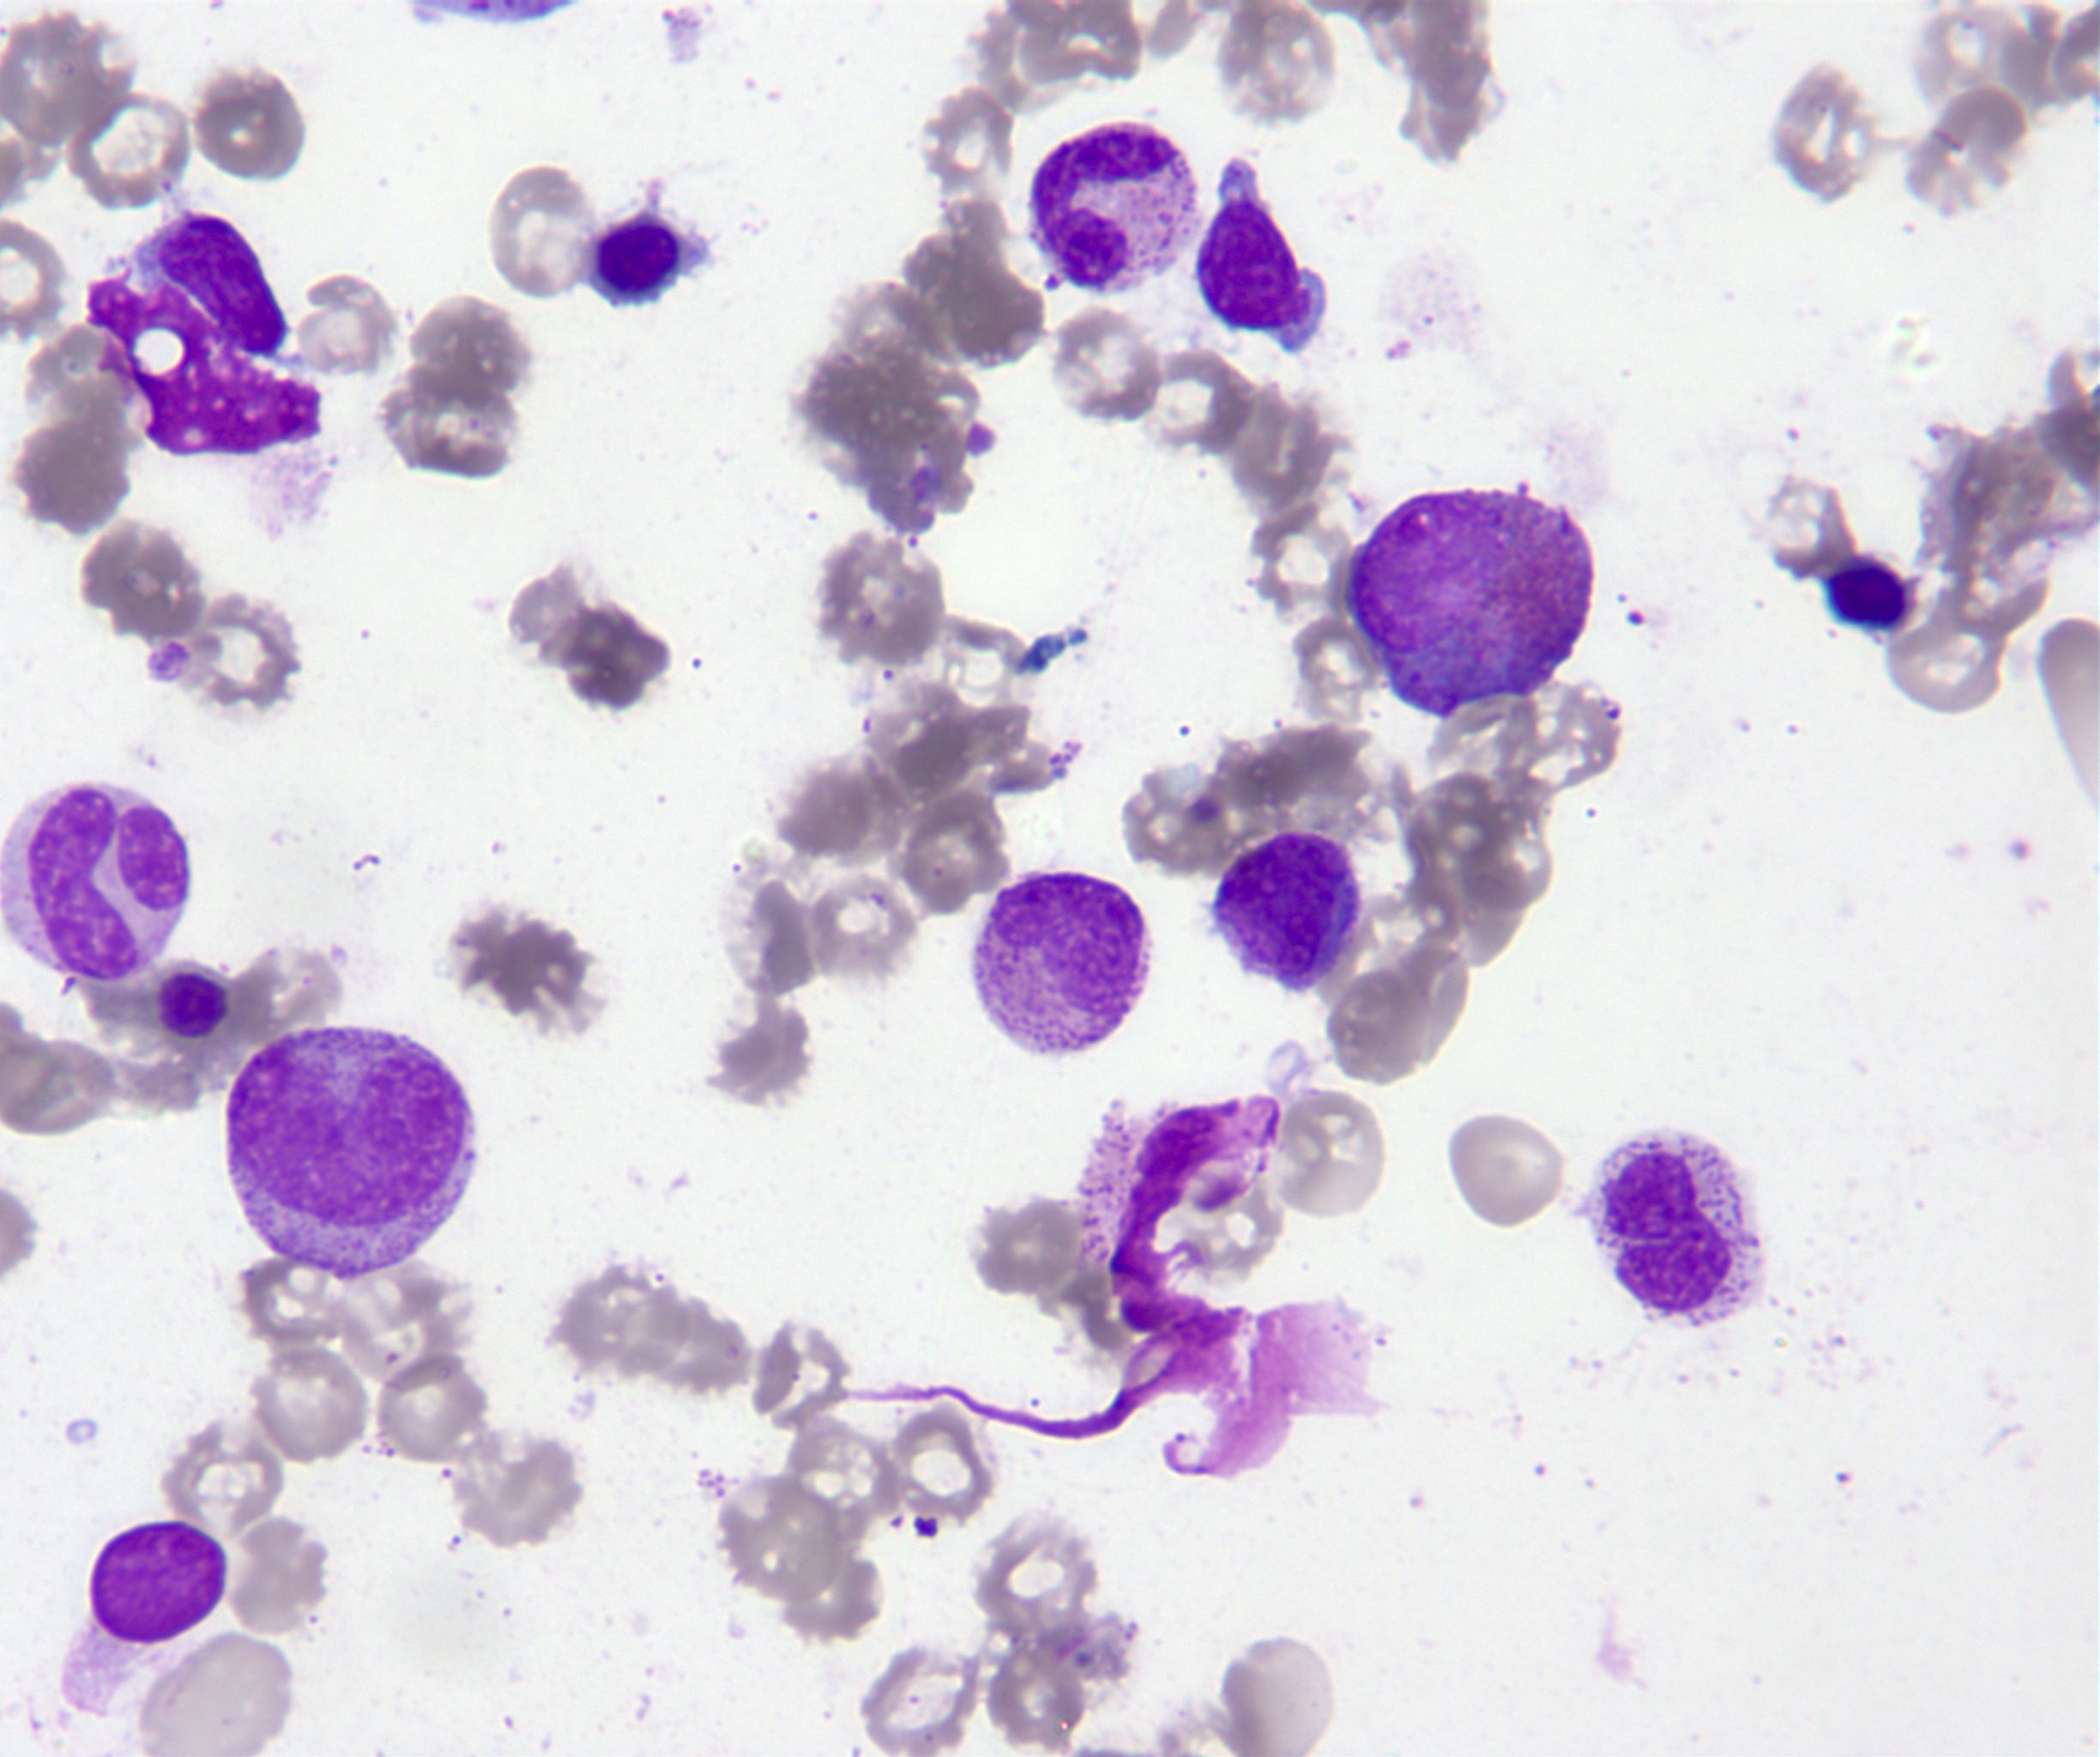24: (570, 208, 708, 312), (1810, 543, 1931, 647)
3: (220, 1019, 483, 1289), (970, 865, 1155, 1064)
32: (84, 202, 338, 462), (1191, 155, 1331, 358)
42: (1210, 829, 1366, 998)
5: (1582, 1125, 1767, 1335), (1024, 112, 1205, 298)
6: (0, 776, 194, 988)
E1: (1340, 476, 1598, 726)
x: (85, 1513, 232, 1652), (155, 961, 234, 1042)
